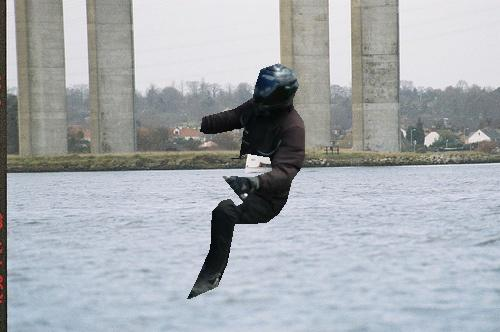tampered: (188, 64, 305, 299)
